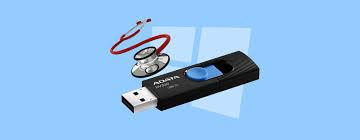Flash-drive: (123, 46, 281, 122)
